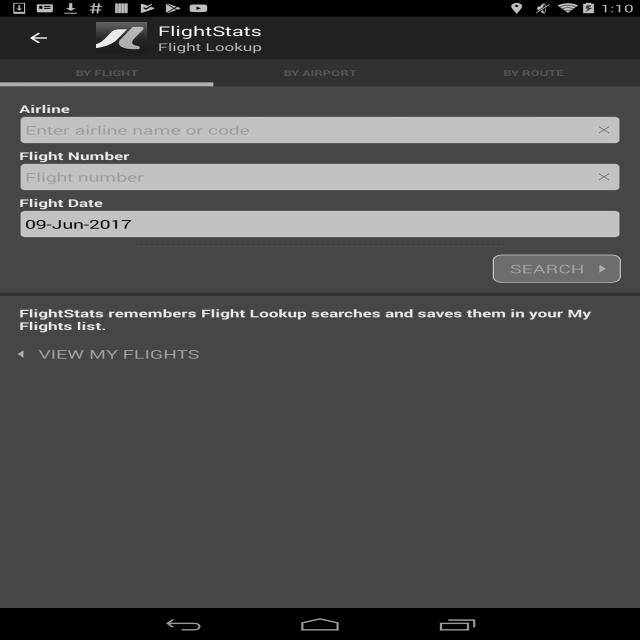Button: (493, 255, 621, 282)
EditText: (19, 163, 621, 191)
ImageButton: (9, 17, 68, 59)
ImageView: (85, 22, 158, 54), (13, 246, 627, 247)
TextView: (0, 306, 640, 338), (19, 116, 621, 144), (19, 210, 621, 238), (0, 91, 640, 116), (0, 149, 640, 163), (0, 196, 640, 210), (213, 59, 427, 86), (426, 59, 640, 86), (0, 59, 213, 86), (0, 345, 214, 362), (0, 293, 640, 296), (158, 22, 262, 40), (158, 40, 262, 54)
